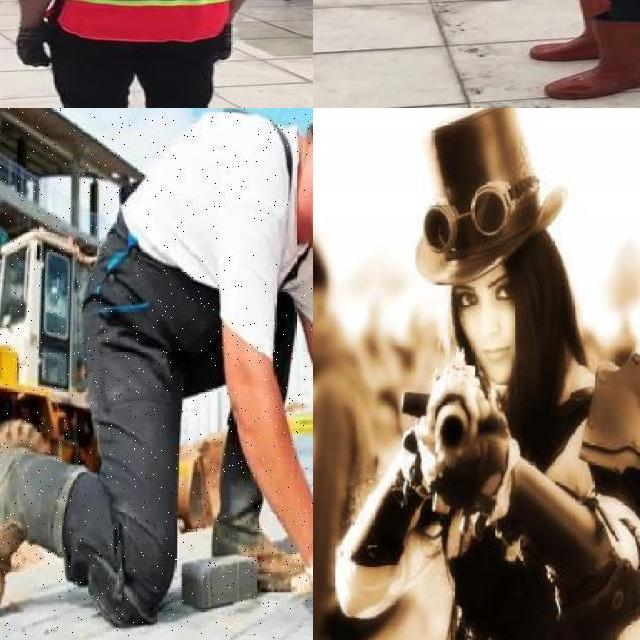boots: (545, 17, 640, 101), (203, 518, 308, 594), (0, 443, 42, 627), (527, 0, 613, 60)
face_nomask: (455, 280, 533, 368)
glasses: (425, 173, 540, 255)
hand_glove: (12, 26, 54, 70), (218, 26, 236, 61)
person: (0, 108, 313, 640), (367, 108, 640, 640), (1, 0, 284, 108), (313, 242, 370, 640), (510, 0, 640, 108)
vest: (58, 0, 264, 42)
